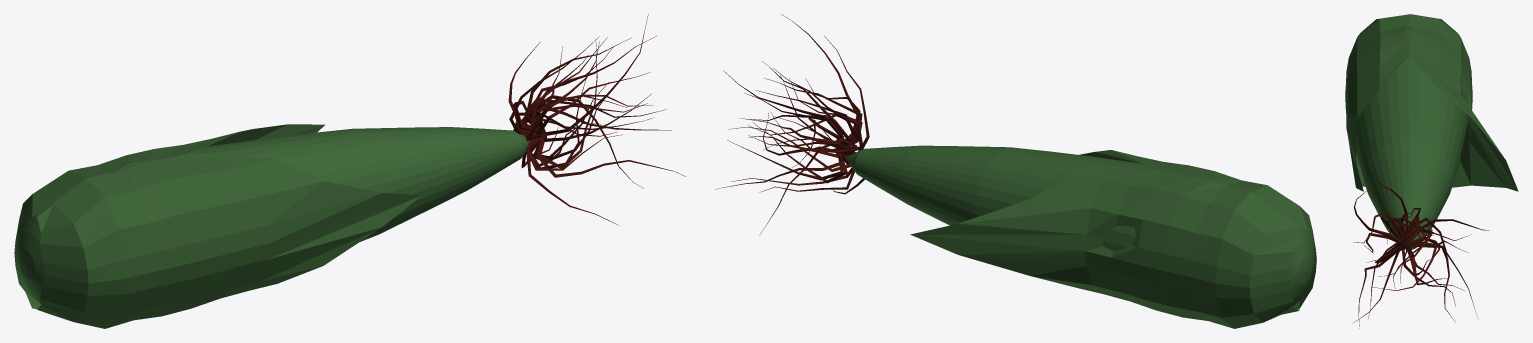
File: MaizeEar.obj
3 renders of one model, left to right at view 1: azimuth 30°, elevation 25°; view 2: azimuth 150°, elevation 25°; view 3: azimuth 270°, elevation 25°, orthographic. The views are drawn at different scales.
Visible parts, largest first — view 1: Plane, Sphere, corn_stalks_set_OBJ.004, Plane.001; view 2: Plane.001, Sphere, corn_stalks_set_OBJ.004, Plane; view 3: Sphere, Plane.001, Plane, corn_stalks_set_OBJ.004.
Boxes of the visible parts, x1,y1,x2,y2 form: Plane: (37,153,421,328); Sphere: (16,127,530,303); corn_stalks_set_OBJ.004: (508,14,685,225); Plane.001: (14,124,325,309); Plane.001: (910,169,1299,328); Sphere: (846,145,1314,307); corn_stalks_set_OBJ.004: (715,14,869,235); Plane: (1079,150,1316,309); Sphere: (1356,56,1468,249); Plane.001: (1406,14,1518,191); Plane: (1345,14,1411,191); corn_stalks_set_OBJ.004: (1353,177,1489,328).
Size of the model in its own units: 1.14 by 0.333 by 0.3371.
